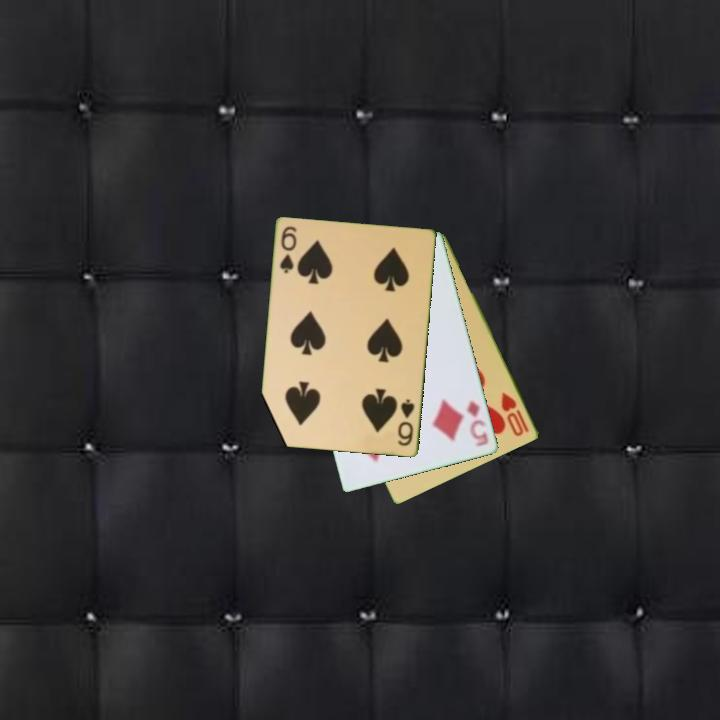10h: (498, 389, 532, 440)
5d: (463, 397, 492, 450)
6s: (277, 223, 300, 277), (395, 396, 418, 449)
